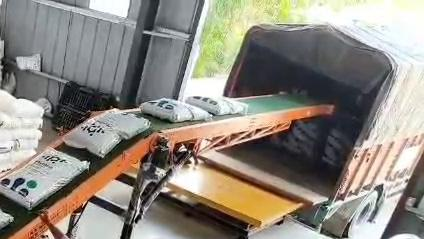box: (0, 149, 88, 209), (65, 109, 150, 157), (139, 98, 210, 122), (185, 96, 247, 115), (0, 210, 12, 228)
